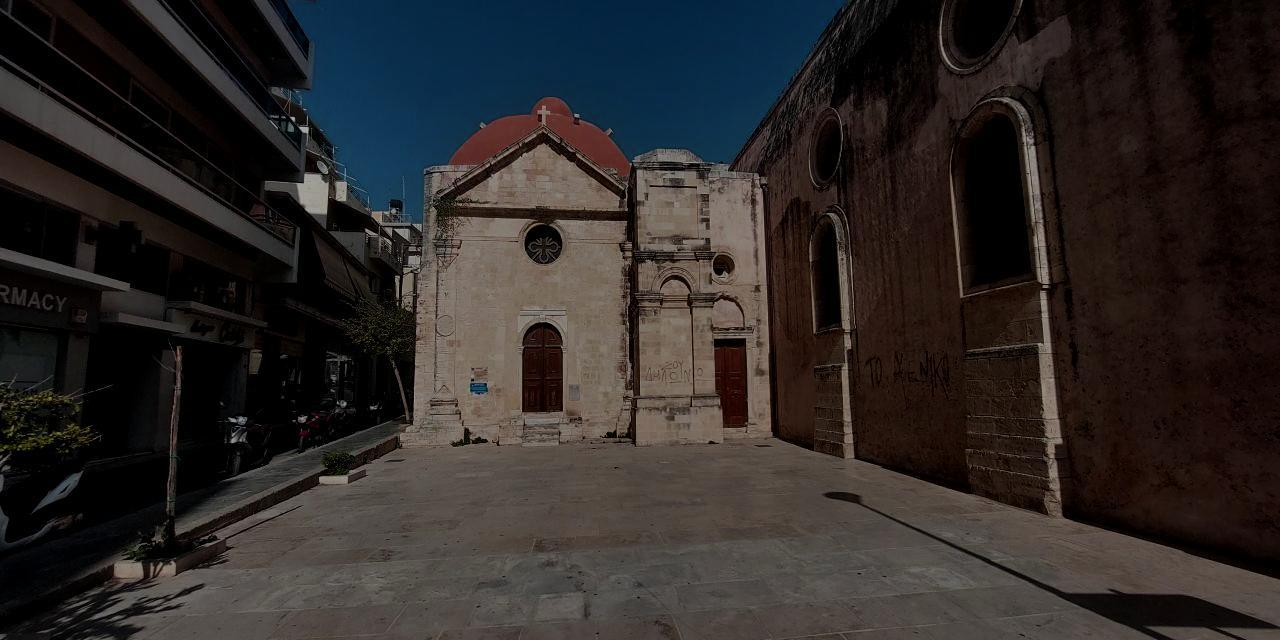Agia Aikaterini: (414, 3, 1280, 569)
